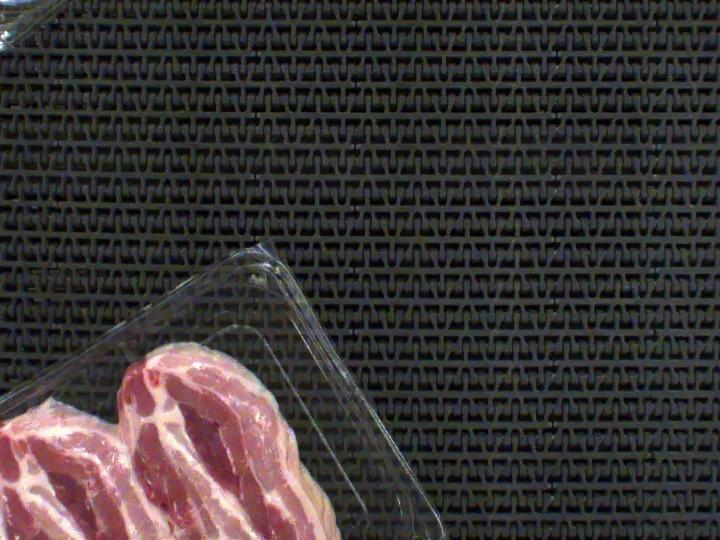packaging-error: (111, 337, 144, 367)
